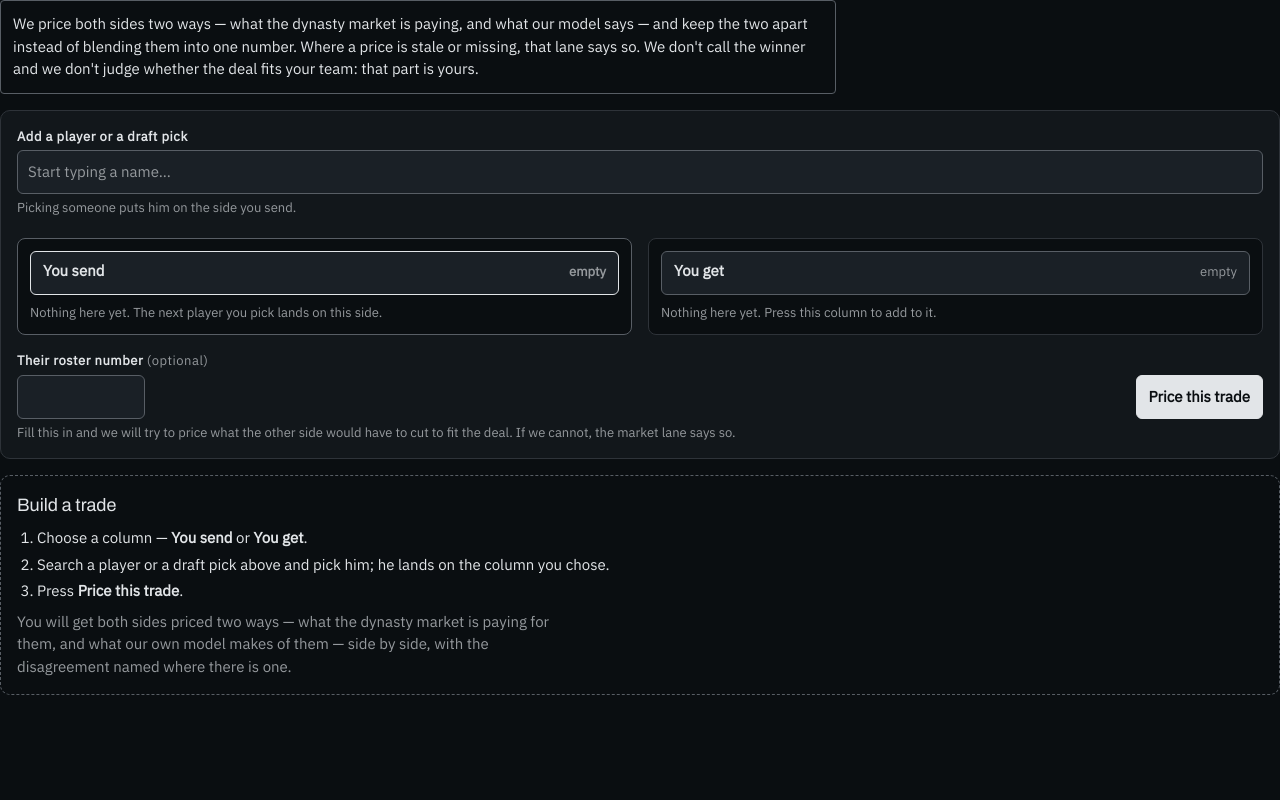
it: TradeLab honest lane degradation › renders both lanes unavailable when both endpoints return 503
The image size is (1280, 800).
Type "cha" into the search field at x=640, y=172, box [17, 150, 1263, 194]
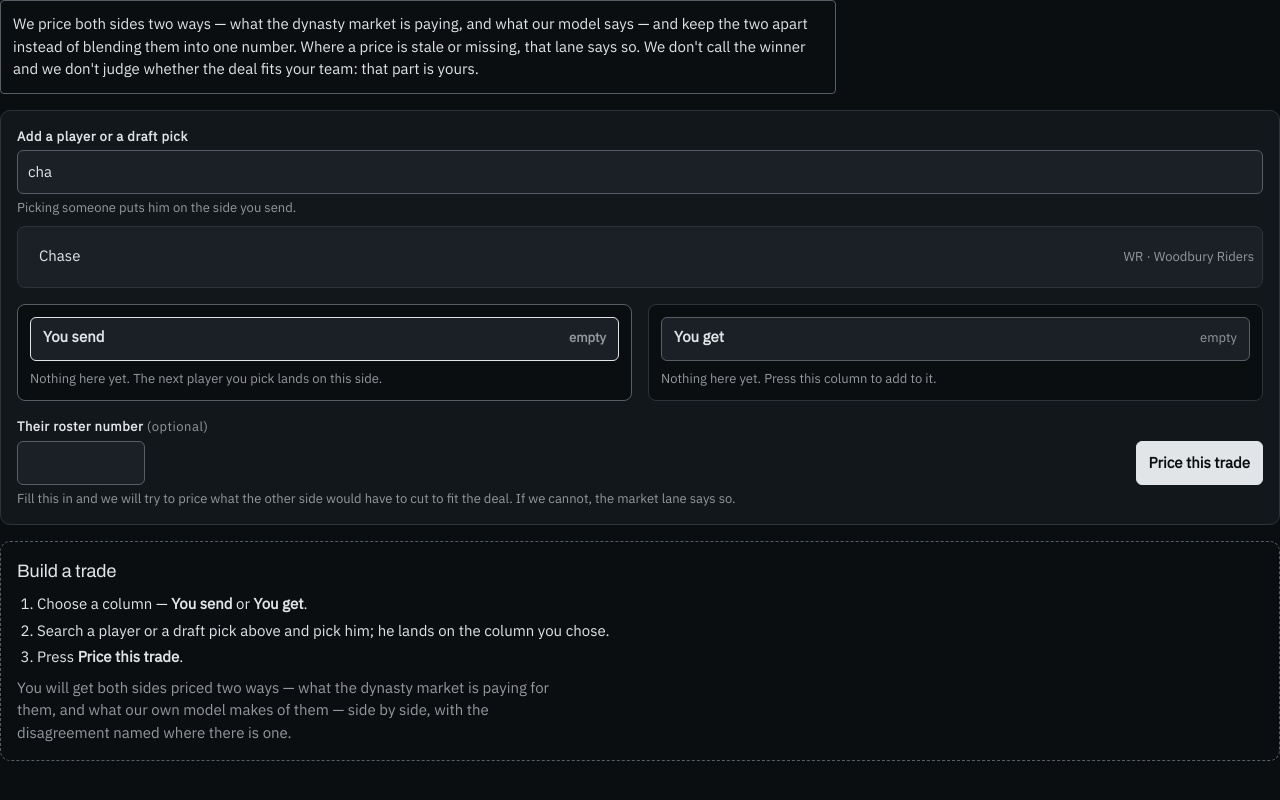
Click the button "Chase" at x=60, y=256, box [26, 234, 1116, 278]
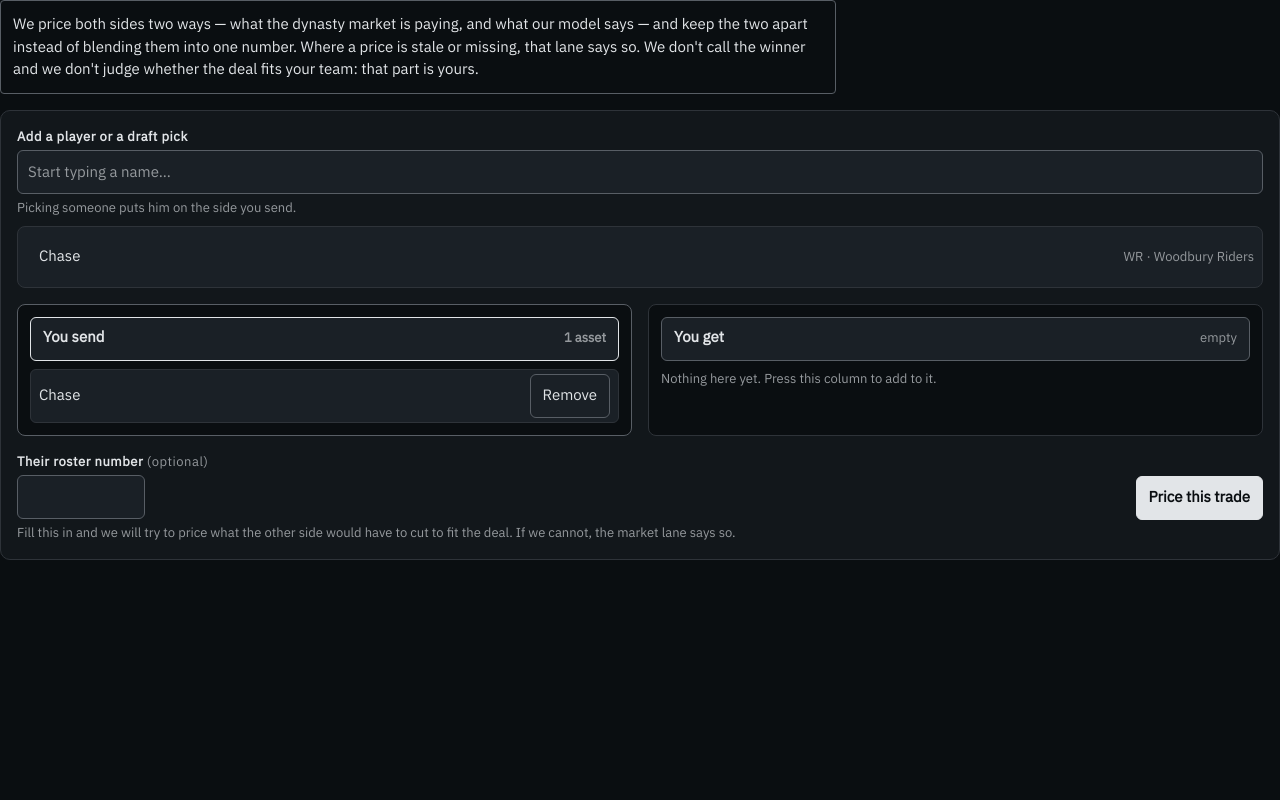
Click the button "Price this trade" at x=1199, y=498, box [1136, 476, 1263, 520]
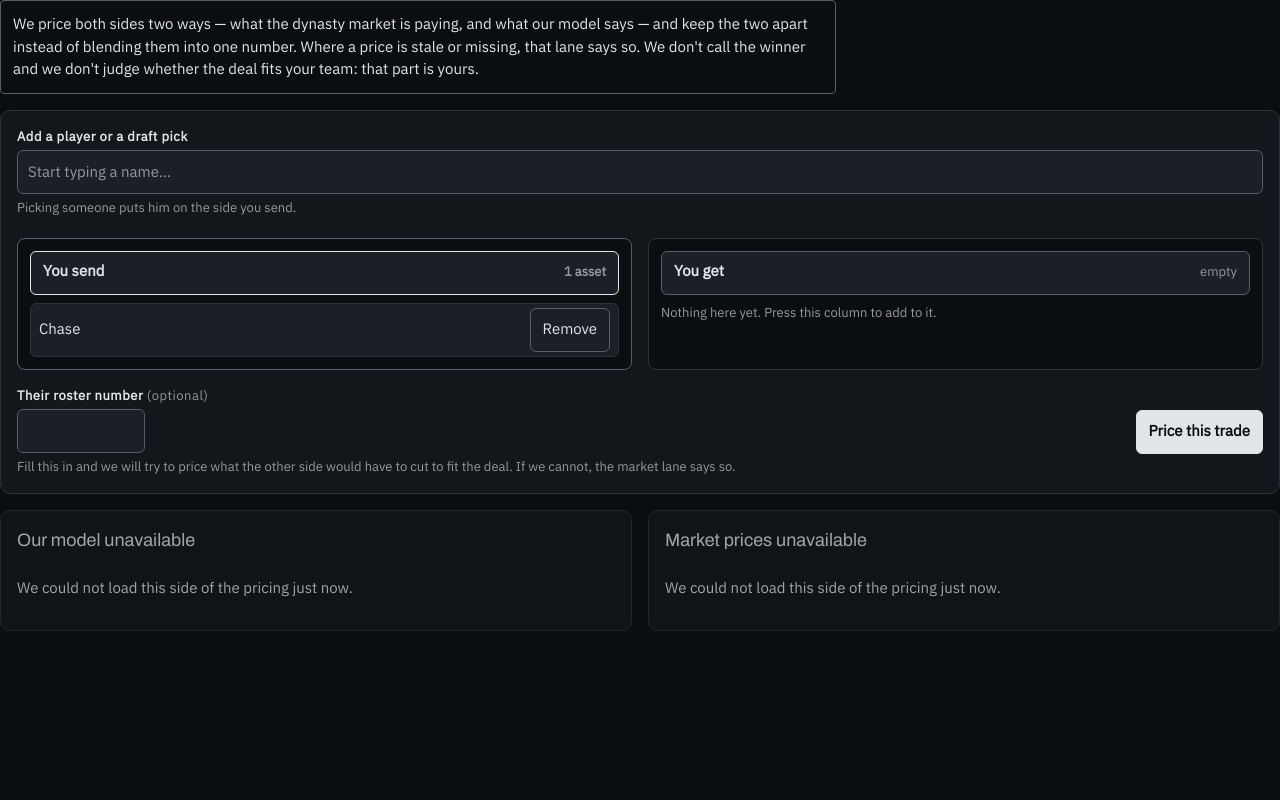
Check: the message "Our model unavailable We could not load this side of the pricing just now." is shown, box [0, 510, 632, 631]
Check: the message "Market prices unavailable We could not load this side of the pricing just now." is shown, box [648, 510, 1279, 631]
